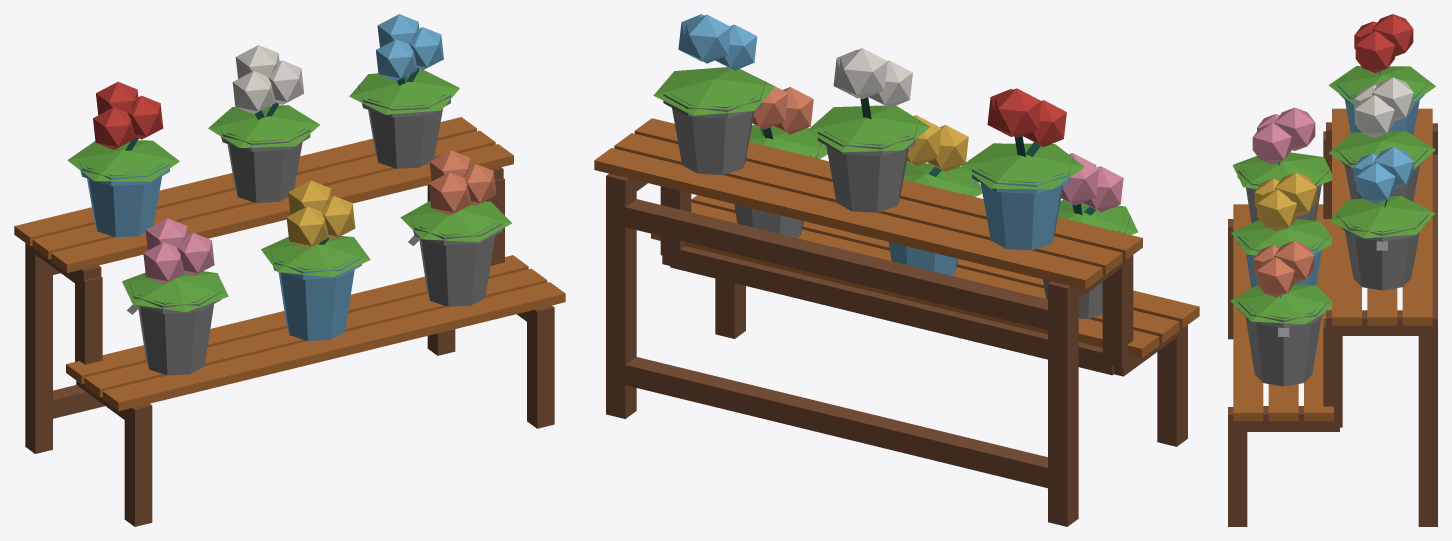
The model's file is cicekci_standi.glb.
3 views of the same model, side by side, from view 1: azimuth 30°, elevation 25°; view 2: azimuth 150°, elevation 25°; view 3: azimuth 270°, elevation 25° (orthographic). The views are drawn at different scales.
Visible parts, largest first — view 1: cicekci_standi; view 2: cicekci_standi; view 3: cicekci_standi.
Boxes of the visible parts, x1,y1,x2,y2 form: cicekci_standi: (14,14,565,526); cicekci_standi: (594,14,1199,526); cicekci_standi: (1228,14,1437,526).
Size of the model in its own units: 1.4 by 1.1 by 0.595.
